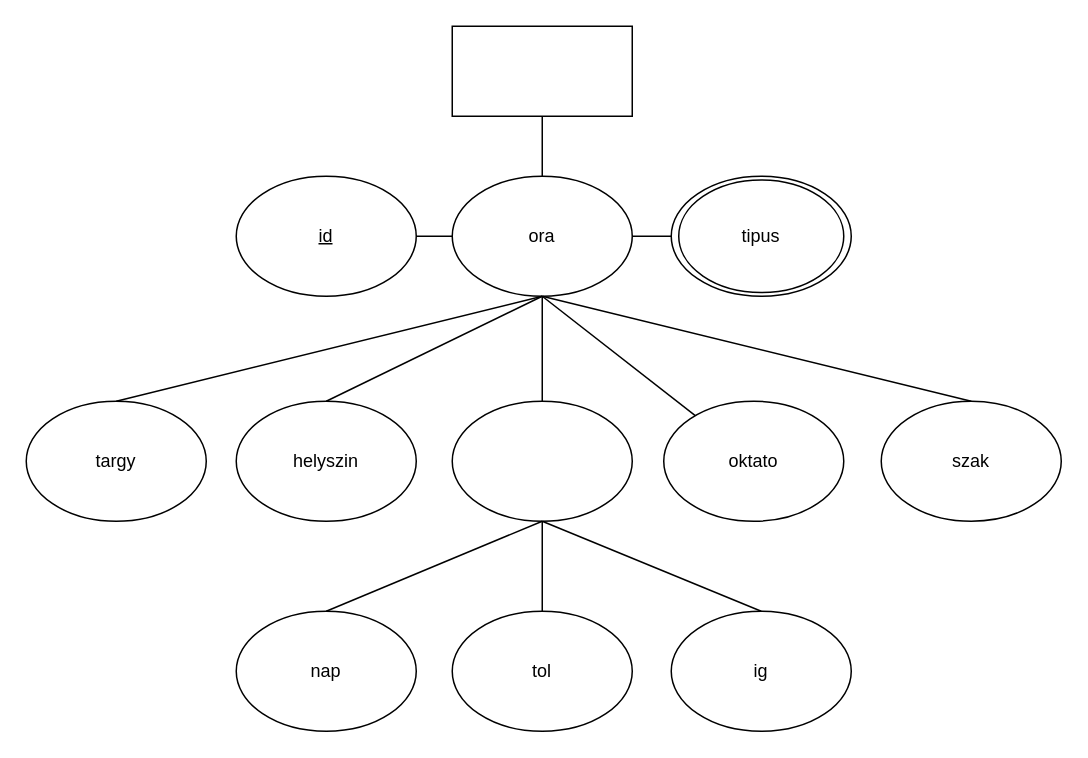
This 1088x758 diagram has some shape labels left out. Each missing label, with the centre of its shape:
A86ANU_orarend: the point at 541,70
idopont: the point at 541,460
